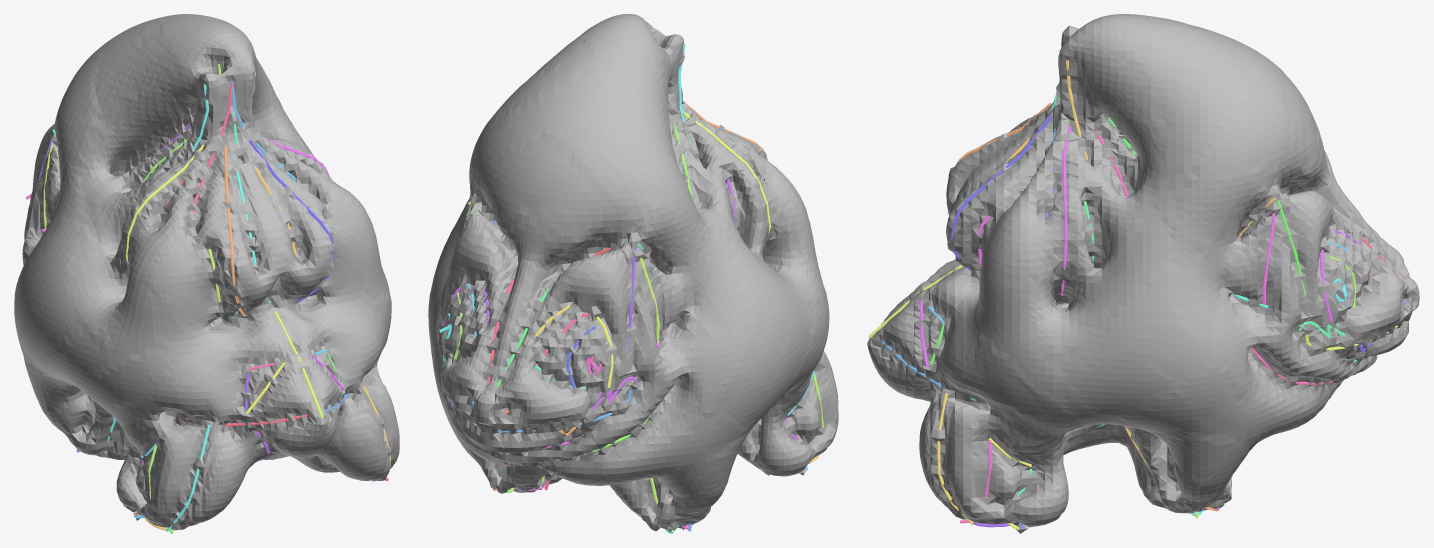
Rendered from author1_bulbasaur.gltf.
3 renders of one model, left to right at view 1: azimuth 30°, elevation 25°; view 2: azimuth 150°, elevation 25°; view 3: azimuth 270°, elevation 25°, orthographic. The views are drawn at different scales.
Size of the model in its own units: 0.5071 by 0.6555 by 0.7118.
